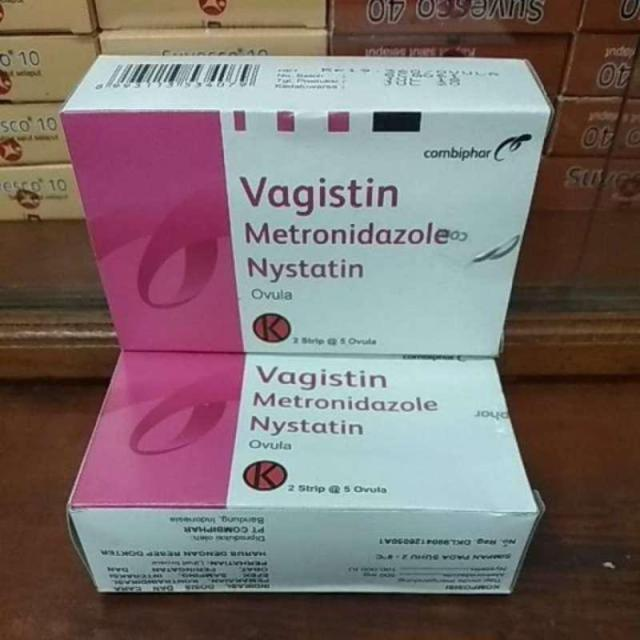drug-name: (234, 168, 405, 220)
